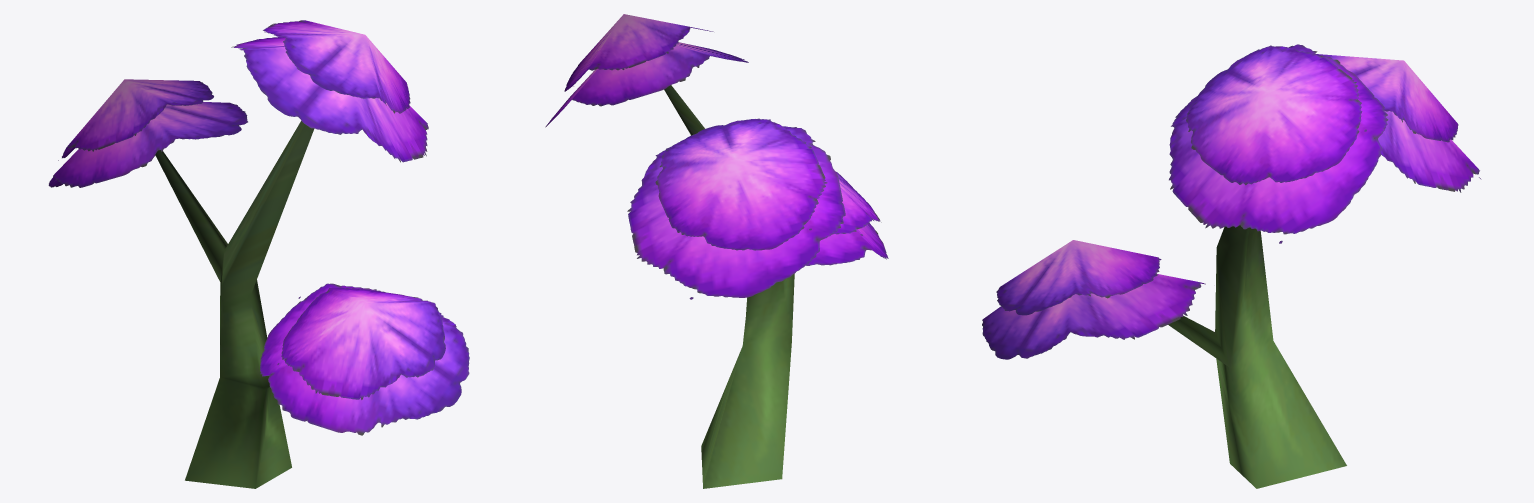
File: silvermoonflower05.obj
3 renders of one model, left to right at view 1: azimuth 30°, elevation 25°; view 2: azimuth 150°, elevation 25°; view 3: azimuth 270°, elevation 25°, orthographic. The views are drawn at different scales.
Parts seen in each view (by area): view 1: silvermoonflower05; view 2: silvermoonflower05; view 3: silvermoonflower05.
Part boxes in pixels (x1,y1,x2,y2): silvermoonflower05: [48, 20, 469, 488]; silvermoonflower05: [545, 14, 888, 488]; silvermoonflower05: [982, 44, 1481, 488].
Size of the model in its own units: 0.6661 by 0.7076 by 0.837.
1 material, 1 textured.
